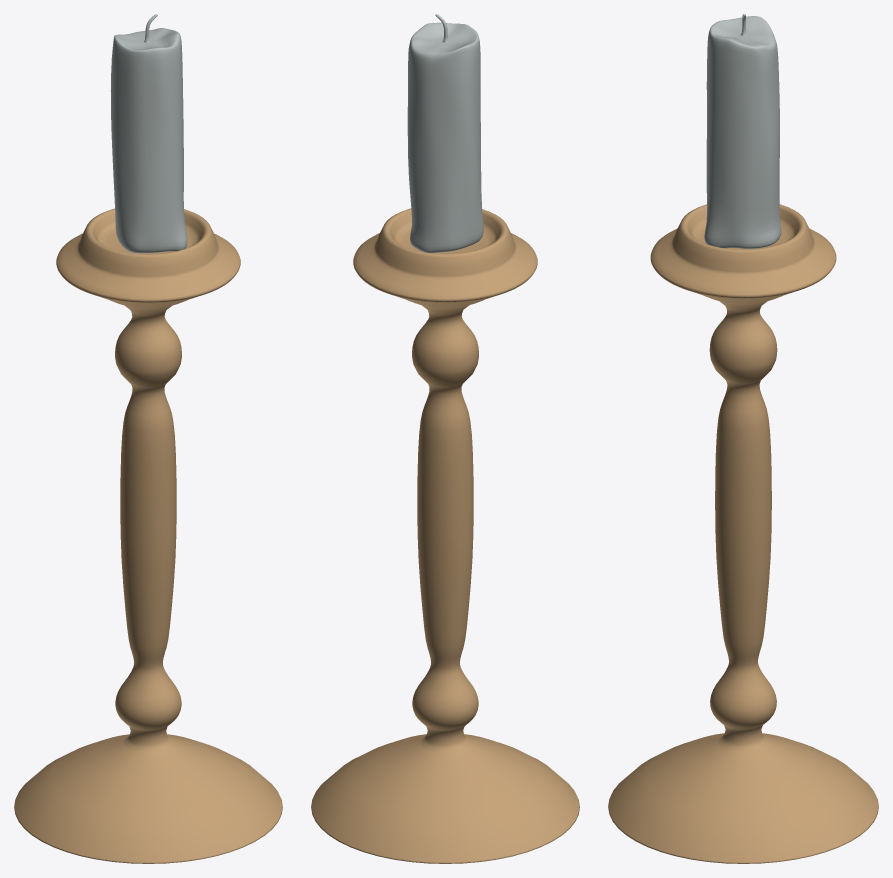
Rendered from decor_candle_i01.glb.
3 renders of one model, left to right at view 1: azimuth 30°, elevation 25°; view 2: azimuth 150°, elevation 25°; view 3: azimuth 270°, elevation 25°, orthographic.
Size of the model in its own units: 0.0598 by 0.1942 by 0.0598.
